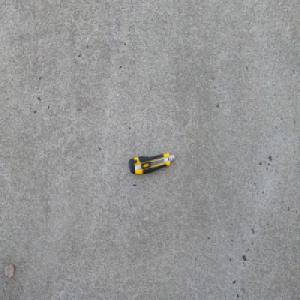Cutter: (127, 152, 175, 175)
